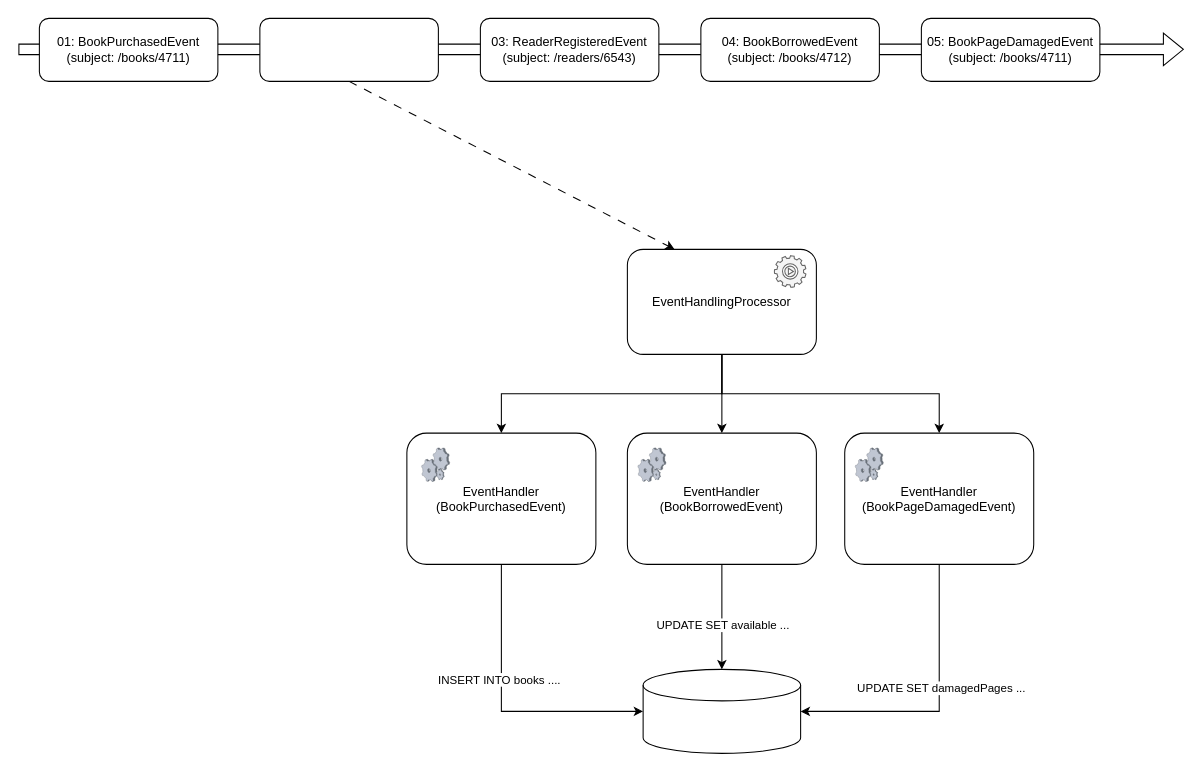
Some shapes in this 1201 by 772 pixel diagram are drawn without their labels. The centre of each missing label's shape, as x and y in pixels:
02: BookPurchasedEvent (subject: /books/4712): the point at 348,49
BookInventory: the point at 721,710
